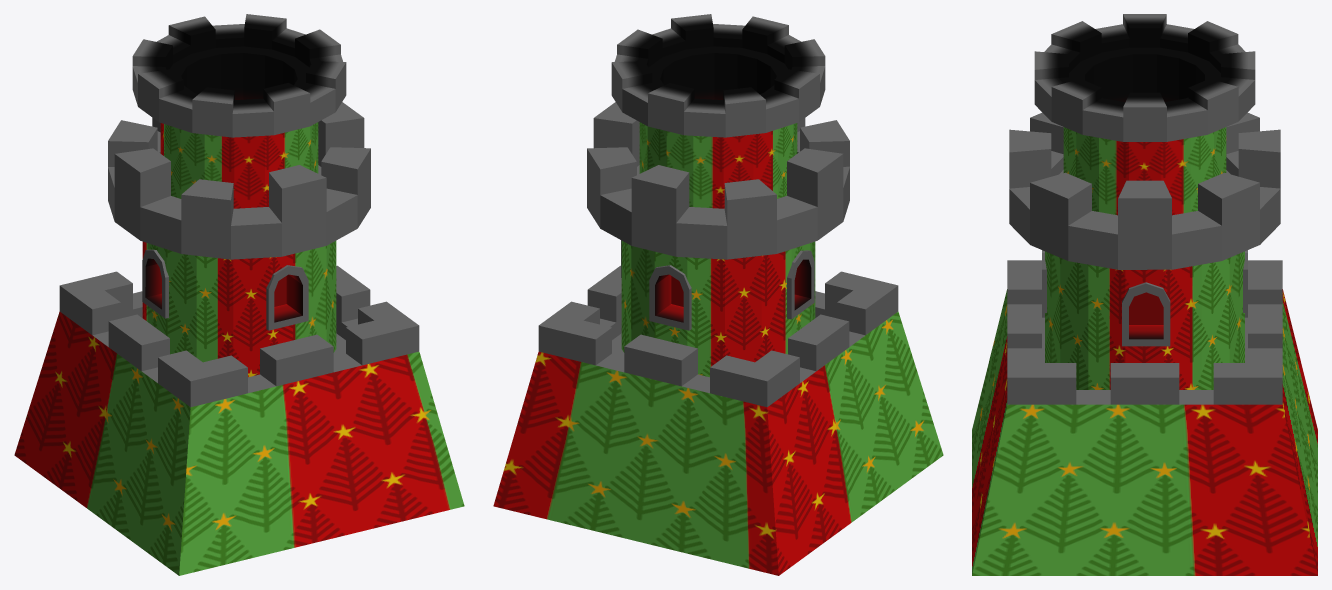
File: TorreBombardera.fbx
3 renders of one model, left to right at view 1: azimuth 30°, elevation 25°; view 2: azimuth 150°, elevation 25°; view 3: azimuth 270°, elevation 25°, orthographic. The views are drawn at different scales.
Parts seen in each view (by area): view 1: Cube, Cylinder, Cylinder.001, Cylinder.003, Cylinder.005; view 2: Cube, Cylinder, Cylinder.001, Cylinder.002, Cylinder.005; view 3: Cube, Cylinder, Cylinder.001, Cylinder.004.
Boxes of the visible parts, x1,y1,x2,y2 form: Cube: (14,265,464,575); Cylinder: (108,102,370,377); Cylinder.001: (132,14,346,208); Cylinder.003: (266,265,308,330); Cylinder.005: (142,249,168,318); Cube: (493,265,943,575); Cylinder: (587,102,849,377); Cylinder.001: (611,14,825,208); Cylinder.002: (649,265,691,330); Cylinder.005: (787,250,814,319); Cube: (972,260,1317,575); Cylinder: (1009,112,1280,389); Cylinder.001: (1034,14,1255,215); Cylinder.004: (1122,282,1170,346).
Size of the model in its own units: 100 by 141 by 100.
